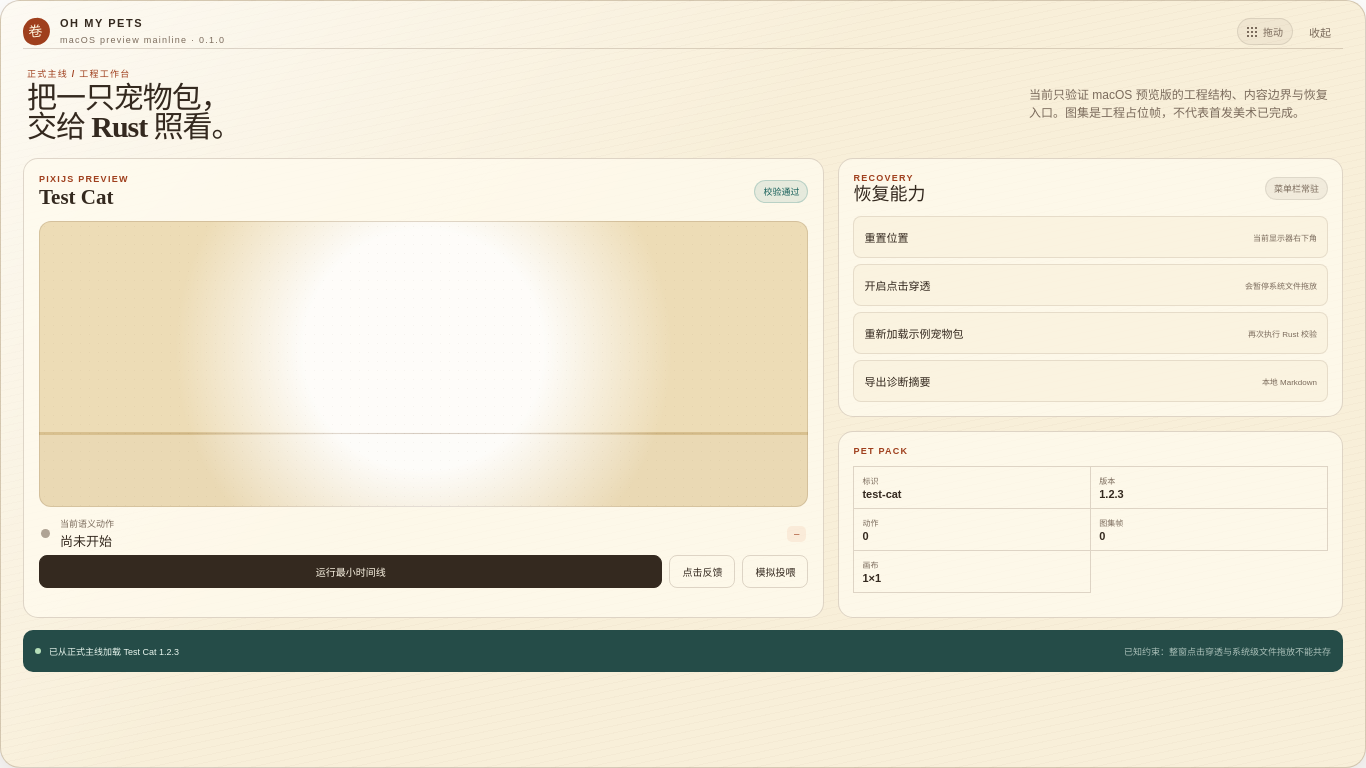
it: 宠物包状态 › 过期的按钮重载结果不会覆盖较新的菜单栏结果
Click the button "重新加载示例宠物包 再次执行 Rust 校验" at (914, 334), box [853,312,1328,354]
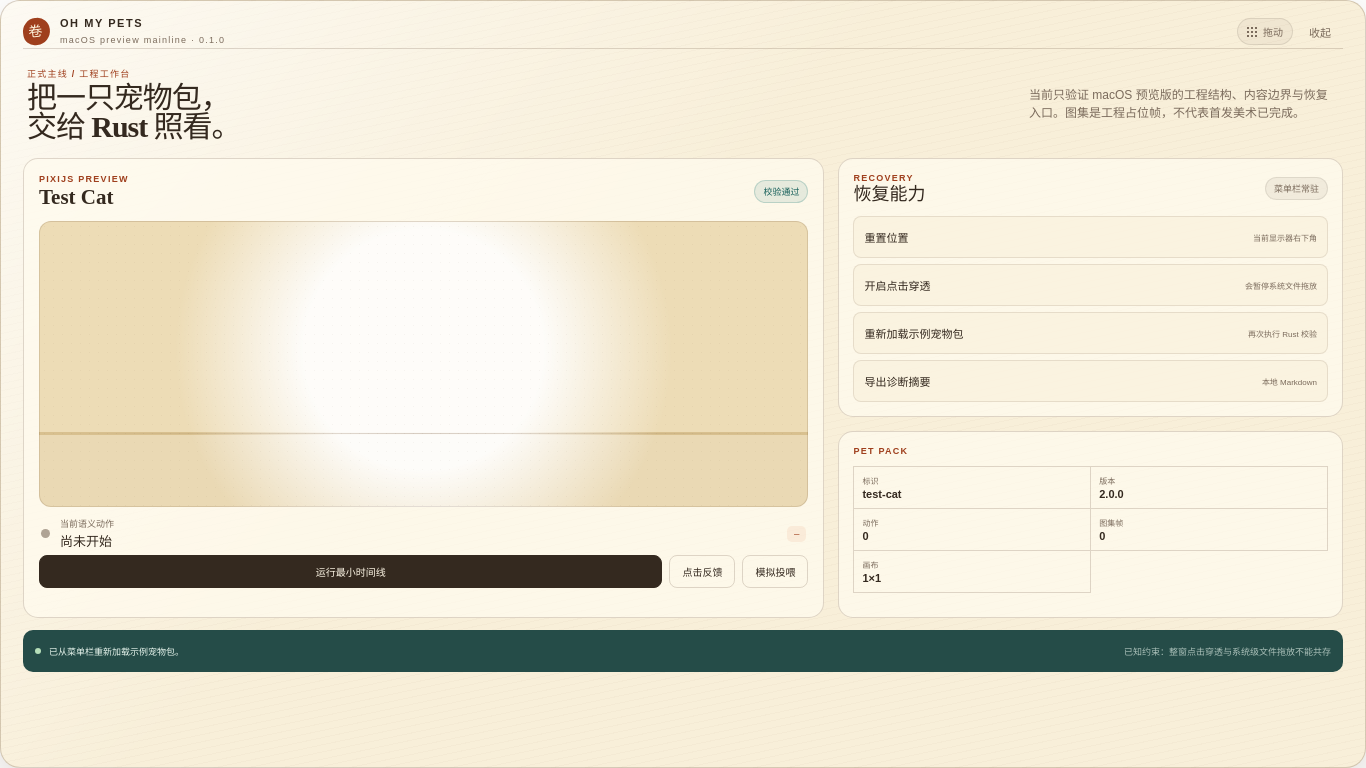
Expected: the element showing "标识 test-cat 版本 2.0.0 动作 0 图集帧 0 画布 1×1" is shown, [853,466,1328,593]
